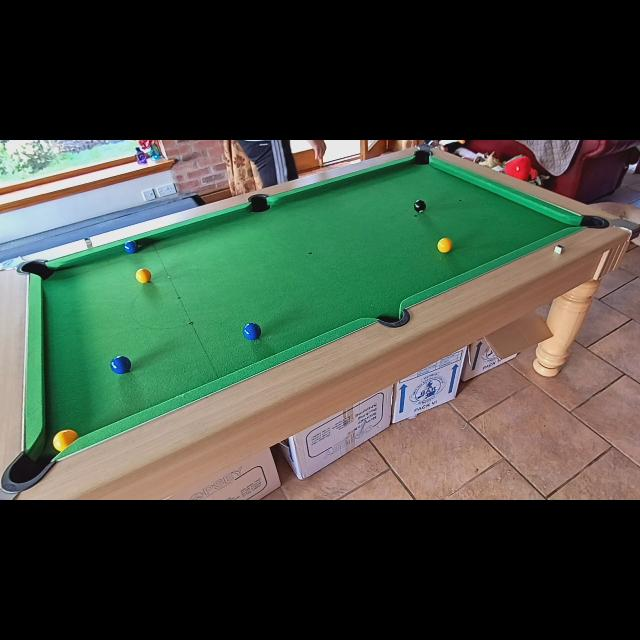Ball: (52, 430, 80, 452), (110, 356, 130, 374), (243, 322, 261, 340), (136, 268, 152, 284), (438, 238, 452, 254), (124, 240, 138, 254), (414, 199, 426, 213)
